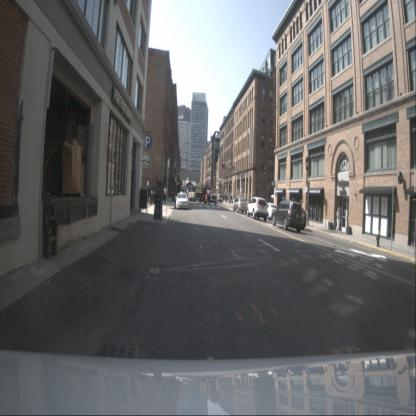human-pedestrian-adult: (335, 206, 341, 234), (163, 184, 167, 204)
movable_object-trafficcone: (147, 196, 151, 205)
vehicle-car: (271, 200, 304, 233), (283, 207, 307, 231), (246, 196, 268, 221), (260, 202, 278, 221), (233, 197, 248, 214), (176, 193, 188, 209), (217, 194, 223, 203)
vehicle-truck: (196, 188, 217, 205)
